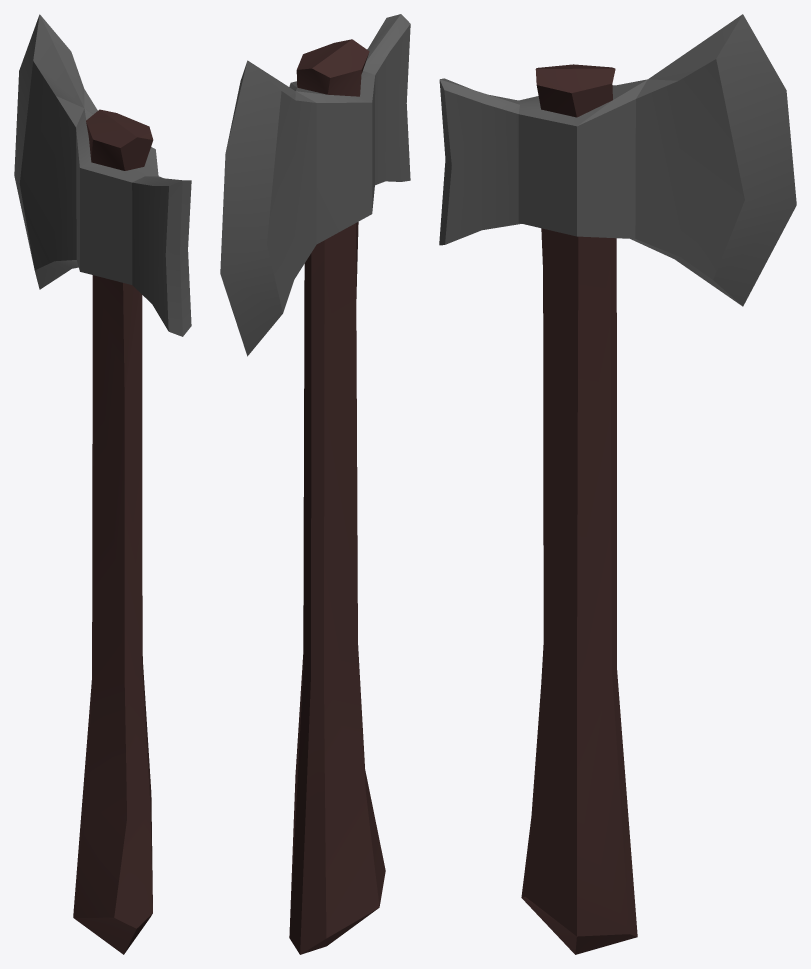
Rendered from axe.obj.
The picture shows the model from 3 angles, left to right: view 1: azimuth 30°, elevation 25°; view 2: azimuth 150°, elevation 25°; view 3: azimuth 270°, elevation 25°; orthographic projection. The views are drawn at different scales.
Parts seen in each view (by area): view 1: SM_Logging_WoodAxe; view 2: SM_Logging_WoodAxe; view 3: SM_Logging_WoodAxe.
Boxes of the visible parts, box(x1,y1,x2,y2) form: SM_Logging_WoodAxe: box(14, 14, 191, 954); SM_Logging_WoodAxe: box(220, 14, 410, 954); SM_Logging_WoodAxe: box(439, 14, 796, 954).
Bounding box in the file's own units: 0.0785 × 0.8024 × 0.2772.
